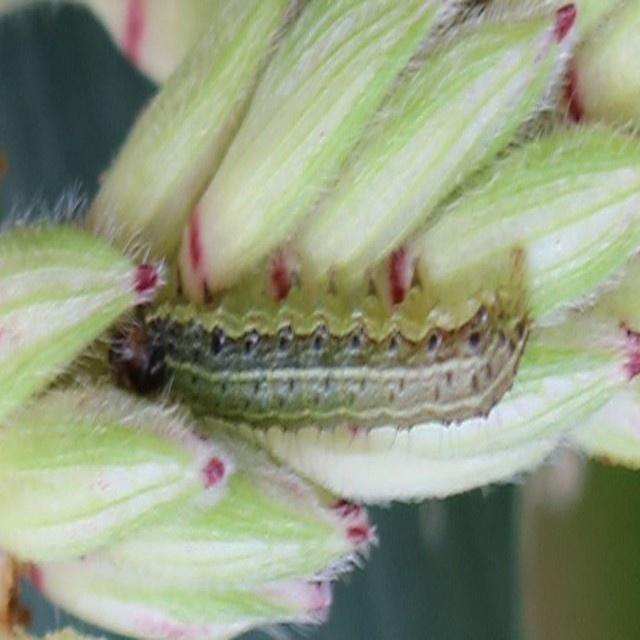gusano_cogollero: (141, 290, 527, 422)
